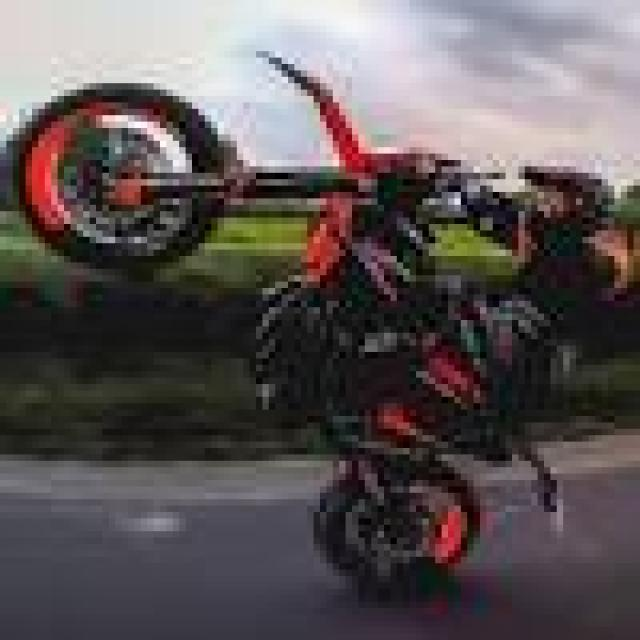Wheeling: (205, 32, 640, 582)
